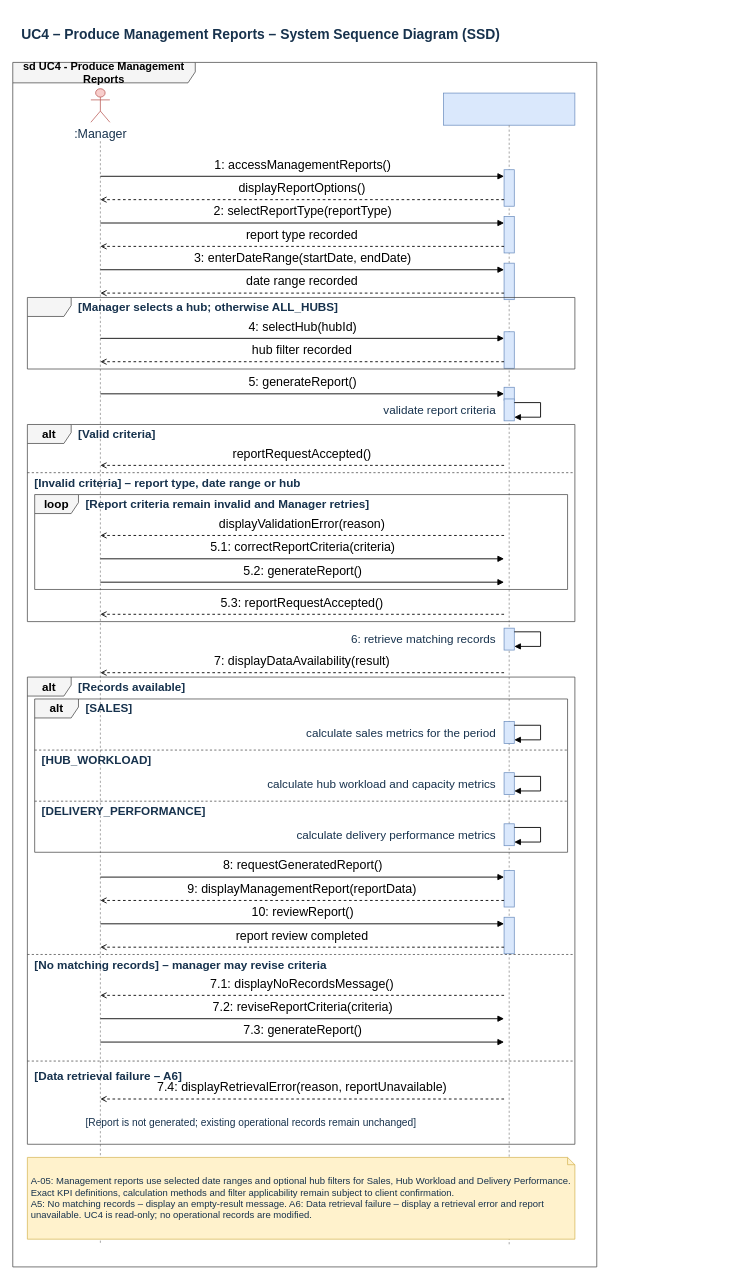
The diagram is 754 pixels wide and 1280 high, and some of its shapes have lost their labels. Each missing label, with the centre of its shape:
":SaigonBite OFDH System" goes at [509,108].
"opt" goes at [301,333].
